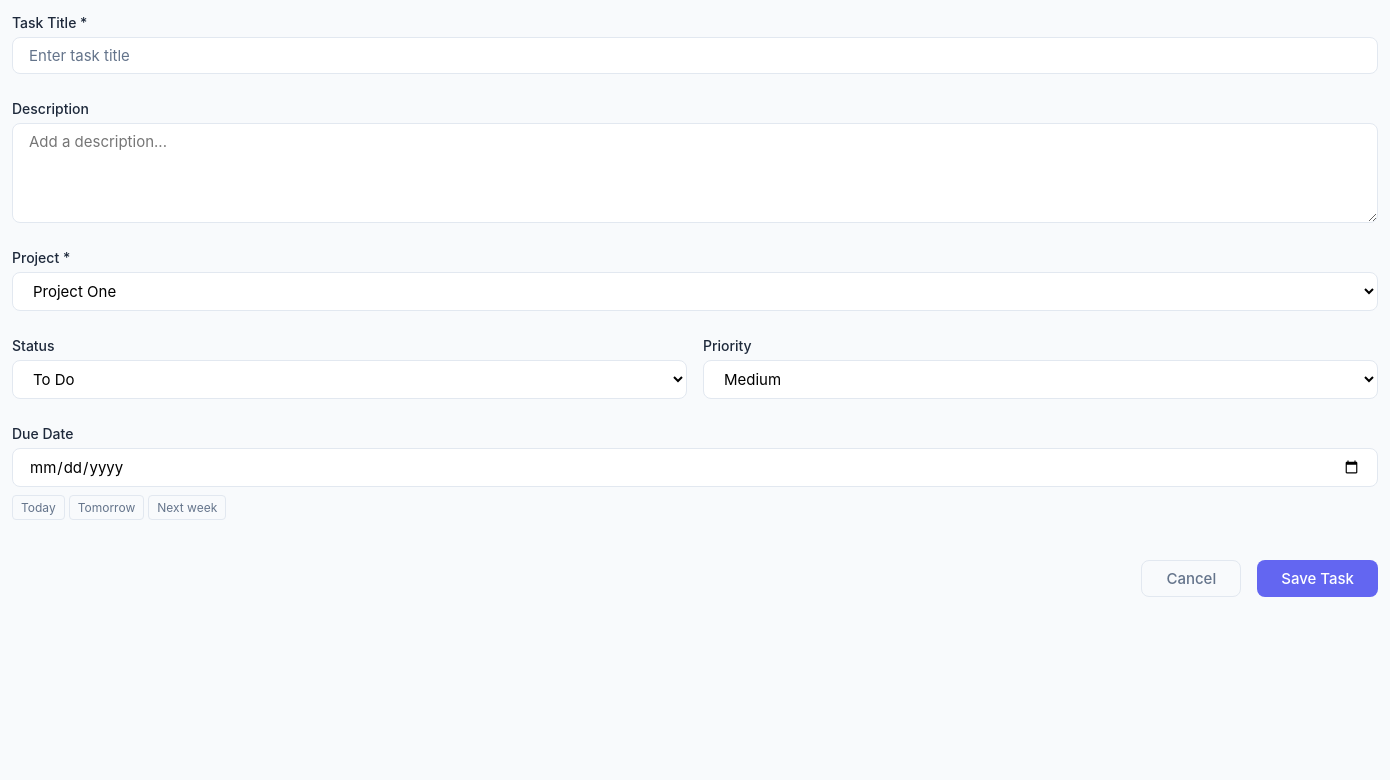
TaskForm › shows validation error for empty title
The width and height of the screenshot is (1390, 780).
Click the button "Save Task" at (1318, 578), box [1257,560,1378,597]
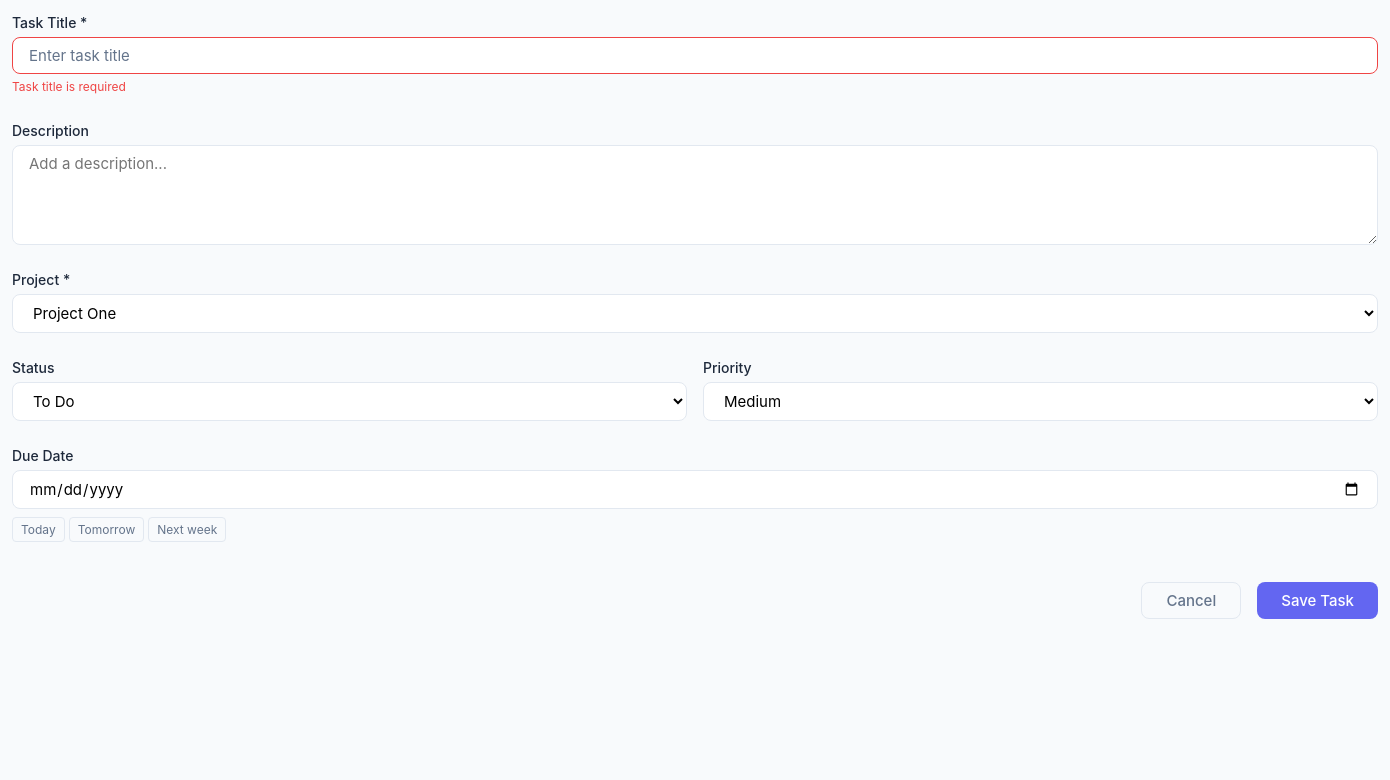
Expected: the text "Task title is required" is shown, [12,79,126,94]
